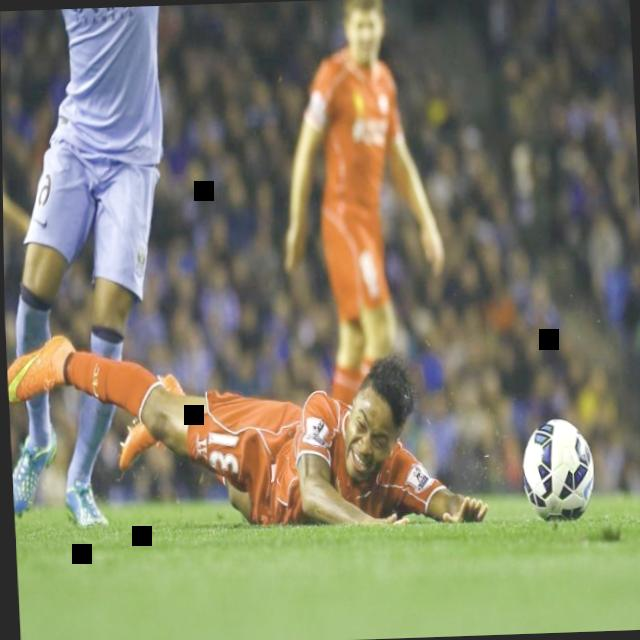Fall-Detected: (4, 313, 476, 547)
